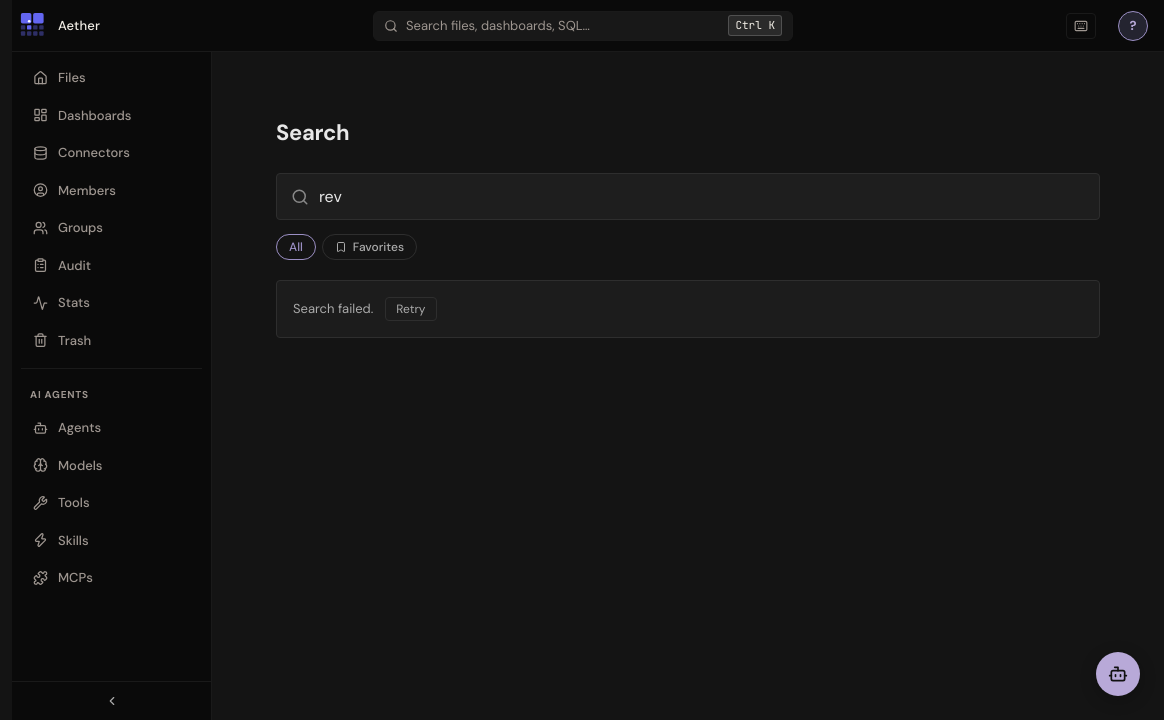
Test: SearchPage › a failed search offers a retry that recovers
This screenshot has width=1164, height=720.
Step 1. Click the button "Retry" → (411, 309), box [385,297,436,321]
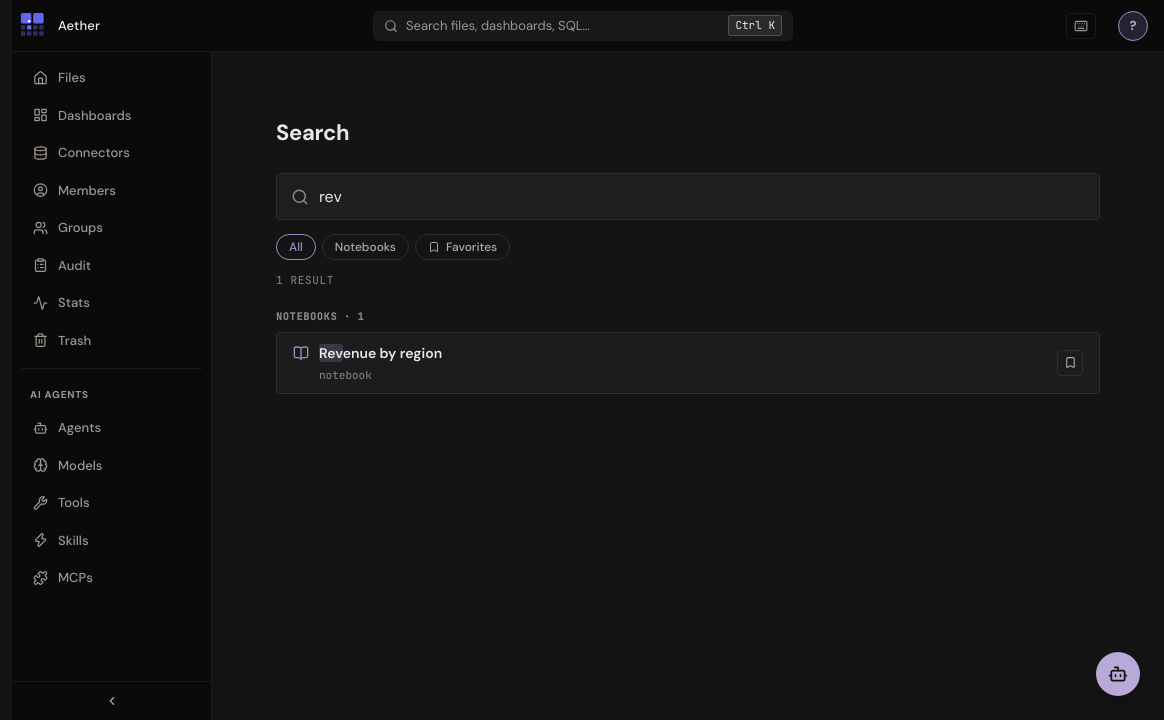
Now the link "Revenue by region notebook" is shown, box [293,344,442,382]
